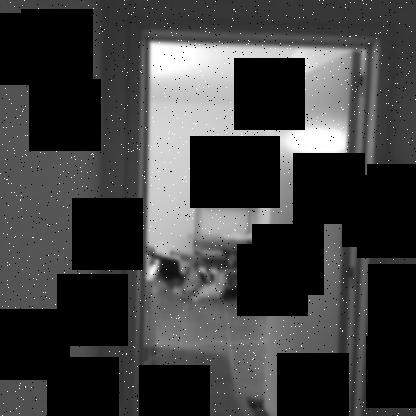Porte: (118, 17, 397, 415)
